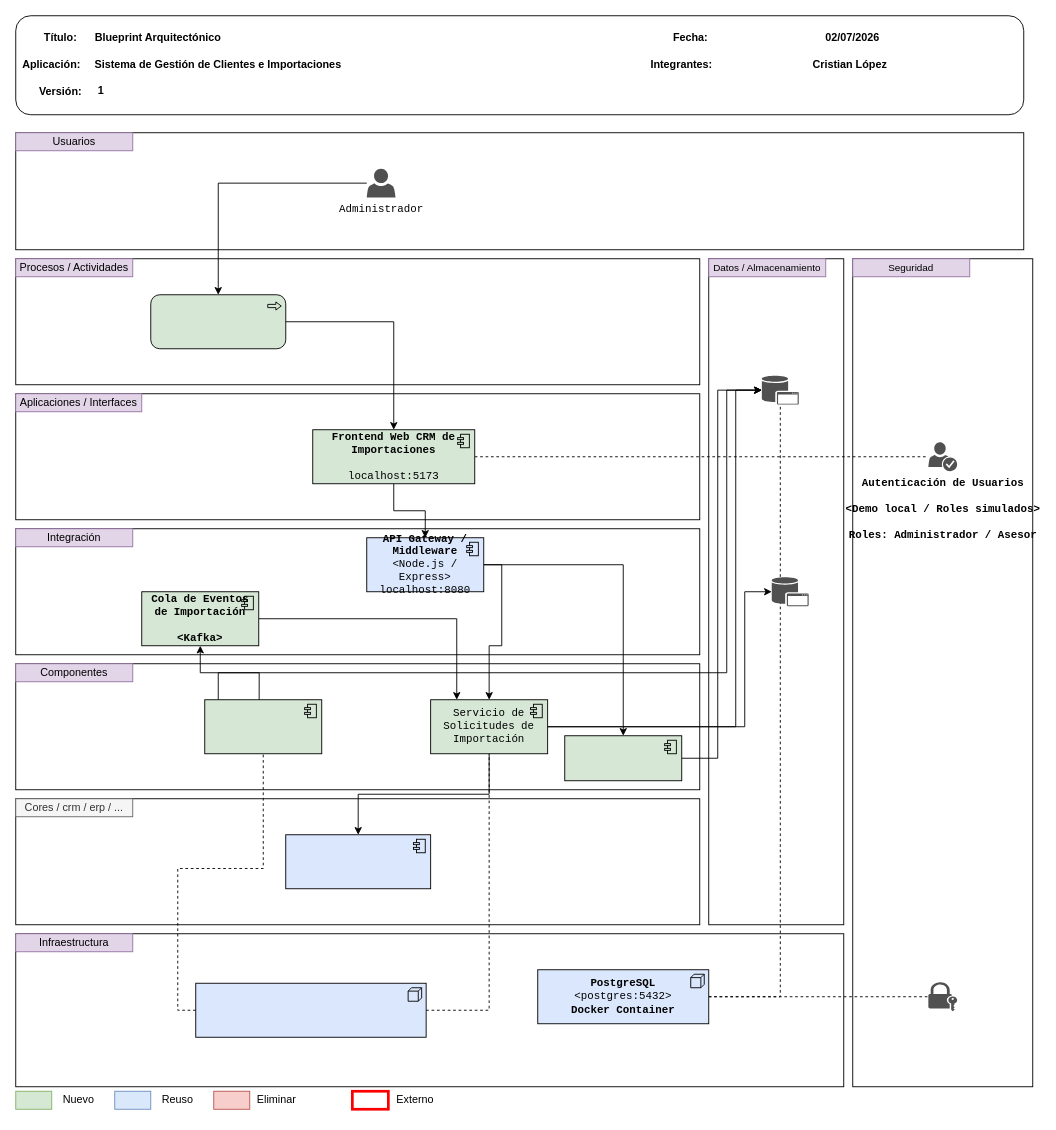
This 1056x1130 diagram has some shape labels left out. Here are the shapes that lost their labels. From the top down, the centre of each, then its label:
At (218,321): "Gestiona clientes y solicitudes de importación".
At (779,389): "Base de Datos Clientes e Importaciones <PostgreSQL>".
At (789,591): "Documentos de Importación <Módulo futuro>".
At (263,726): "Servicio de Clientes".
At (623,758): "Servicio de Cotizaciones".
At (358,861): "ERP / Facturación <Sistema existente>".
At (310,1009): "Docker Compose Microservicios Backend <Local Deployment>".
At (942,996): "Credenciales de Base de Datos <Variables de entorno / Docker Compose>".
